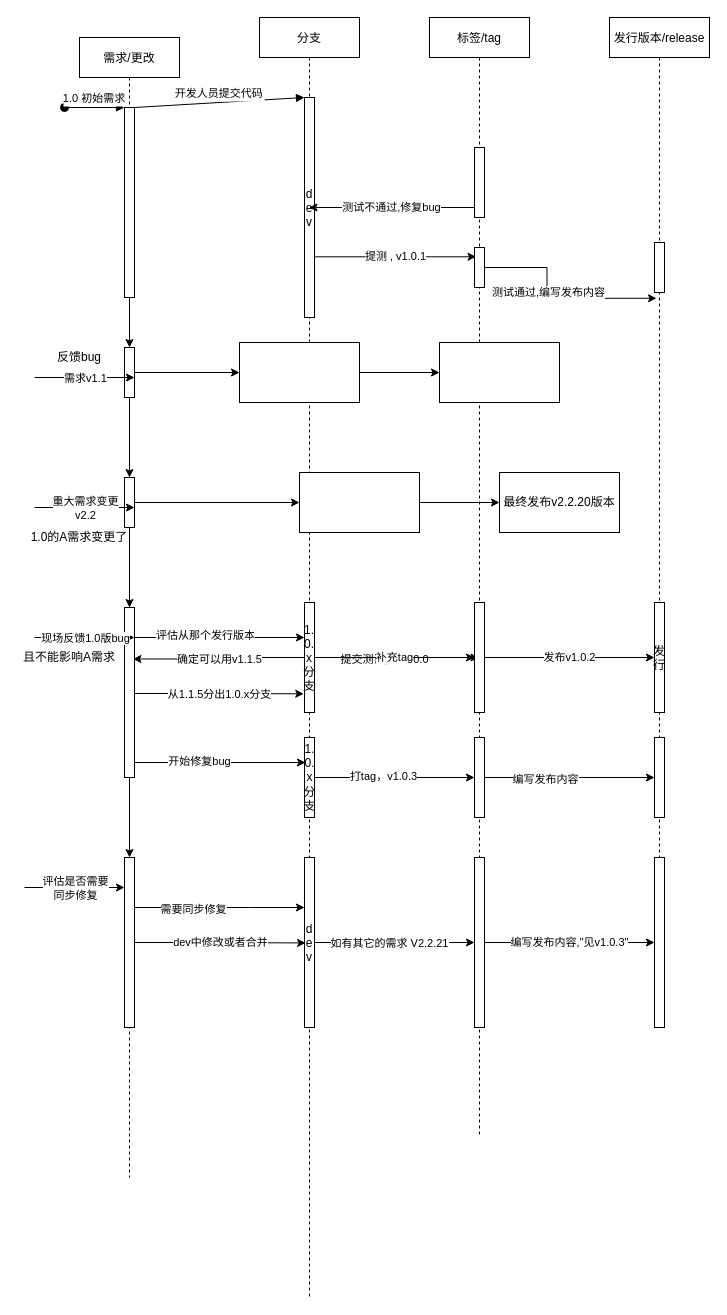
Some shapes in this 727 by 1315 pixel diagram are drawn without their labels. The centre of each missing label's shape, as x and y in pixels:
"1.1.5修复了1.0的bug 最终发布v1.1.9版本" goes at point 499,372.
"修复1.0的bug 并新作了需求" goes at point 299,372.
"始终再dev分支上开发" goes at point 359,502.
